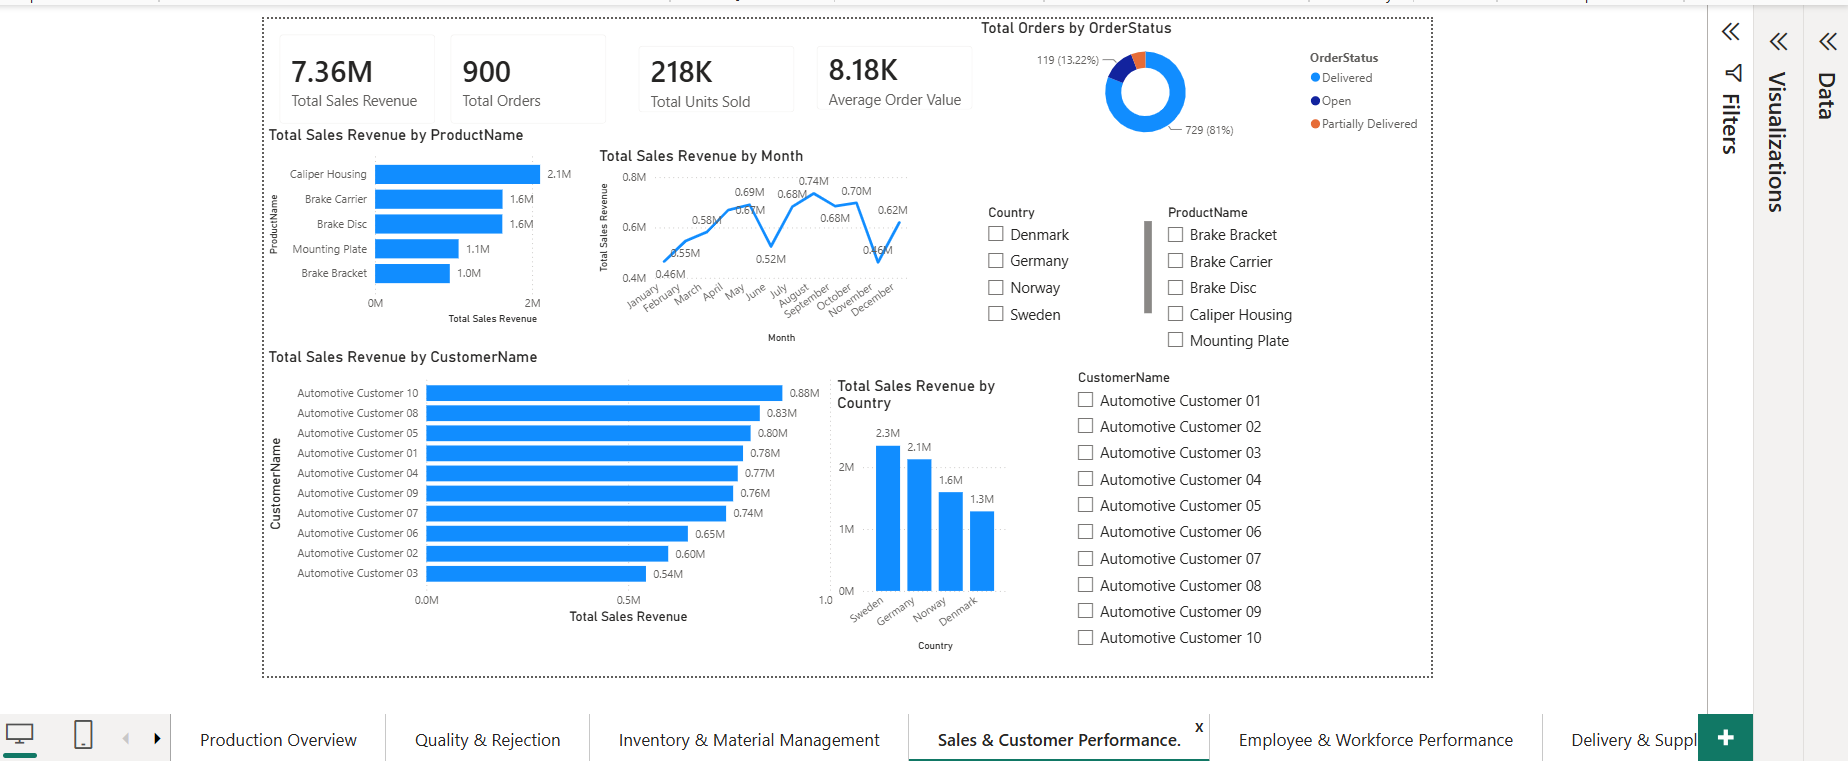

The dashboard page shown, as its layout file describes it:
{"tool":"powerbi","page":{"name":"Sales & Customer Performance.","canvas":[1280,720],"ordinal":3},"visuals":[{"type":"cardVisual","fields":{"Data":["tblFactSales.Total Sales Revenue"]},"box":[0,0,205.9,132.4],"z":0},{"type":"cardVisual","fields":{"Data":["tblFactSales.Total Orders"]},"box":[188.3,0,205.9,132.4],"z":1000},{"type":"cardVisual","fields":{"Data":["tblFactSales.Total Units Sold"]},"box":[394.2,13.2,205.9,107.4],"z":2000},{"type":"cardVisual","fields":{"Data":["tblFactSales.Average Order Value"]},"box":[588.3,13.2,205.9,104.4],"z":3000},{"type":"clusteredBarChart","fields":{"Category":["tblDimProduct.ProductName"],"Y":["tblFactSales.Total Sales Revenue"]},"box":[0,117.7,394.2,222.1],"z":4000},{"type":"clusteredBarChart","fields":{"Category":["tblDimCustomer.CustomerName"],"Y":["tblFactSales.Total Sales Revenue"]},"box":[0,360.4,639.8,307.4],"z":5000},{"type":"lineChart","fields":{"Category":["tblFactSales.OrderDate.Variation.Date Hierarchy.Year","tblFactSales.OrderDate.Variation.Date Hierarchy.Quarter","tblFactSales.OrderDate.Variation.Date Hierarchy.Month"],"Y":["tblFactSales.Total Sales Revenue"]},"box":[361.8,141.2,348.6,219.2],"z":6000},{"type":"donutChart","fields":{"Category":["tblFactSales.OrderStatus"],"Y":["tblFactSales.Total Orders"]},"box":[781,0,498.6,141.2],"z":7000},{"type":"slicer","fields":{"Values":["tblDimCustomer.CustomerName"]},"box":[879.7,380.3,301.9,328.1],"z":8000},{"type":"slicer","fields":{"Values":["tblDimProduct.ProductName"]},"box":[978.1,198.6,301.5,178],"z":9000},{"type":"slicer","fields":{"Values":["tblDimCustomer.Country"]},"box":[781,198.6,197.1,141.2],"z":10000},{"type":"clusteredColumnChart","fields":{"Category":["tblDimCustomer.Country"],"Y":["tblFactSales.Total Sales Revenue"]},"box":[623.6,392.7,197.1,305.9],"z":11000}]}

Visuals, with their boxes on the page's 1280x720 design canvas (x1, y1, x2, y2). These are canvas units, not pixel positions in the 1848x761 screenshot, which may show the page scaled, cropped or inside an application window:
cardVisual - tblFactSales.Total Sales Revenue: [0, 0, 206, 132]
cardVisual - tblFactSales.Total Orders: [188, 0, 394, 132]
cardVisual - tblFactSales.Total Units Sold: [394, 13, 600, 121]
cardVisual - tblFactSales.Average Order Value: [588, 13, 794, 118]
clusteredBarChart - tblDimProduct.ProductName x tblFactSales.Total Sales Revenue: [0, 118, 394, 340]
clusteredBarChart - tblDimCustomer.CustomerName x tblFactSales.Total Sales Revenue: [0, 360, 640, 668]
lineChart - tblFactSales.OrderDate.Variation.Date Hierarchy.Year x tblFactSales.OrderDate.Variation.Date Hierarchy.Quarter: [362, 141, 710, 360]
donutChart - tblFactSales.OrderStatus x tblFactSales.Total Orders: [781, 0, 1280, 141]
slicer - tblDimCustomer.CustomerName: [880, 380, 1182, 708]
slicer - tblDimProduct.ProductName: [978, 199, 1280, 377]
slicer - tblDimCustomer.Country: [781, 199, 978, 340]
clusteredColumnChart - tblDimCustomer.Country x tblFactSales.Total Sales Revenue: [624, 393, 821, 699]
